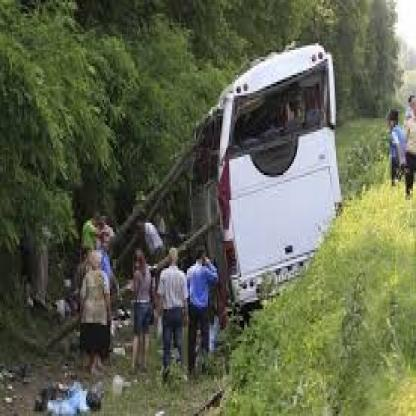accident: (121, 31, 364, 367)
